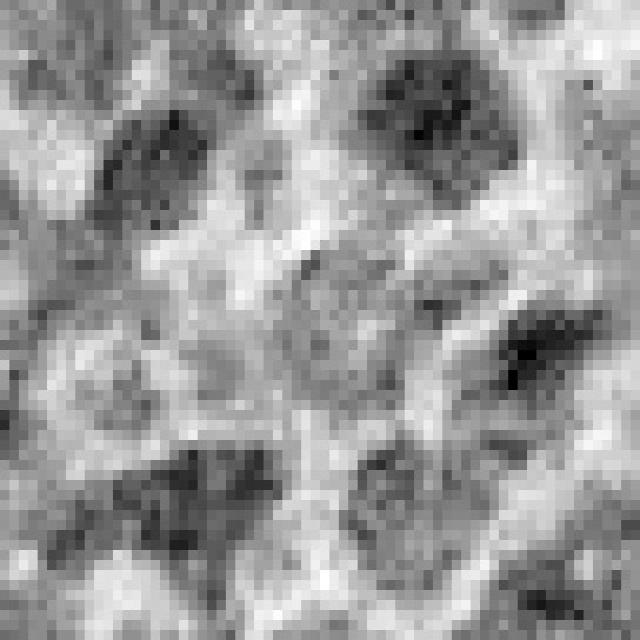inner: (158, 168, 463, 443)
lobe: (44, 438, 294, 626), (340, 46, 528, 215), (450, 299, 631, 474), (341, 442, 497, 605), (86, 106, 219, 241), (68, 348, 165, 437)
outer: (0, 1, 640, 640)
